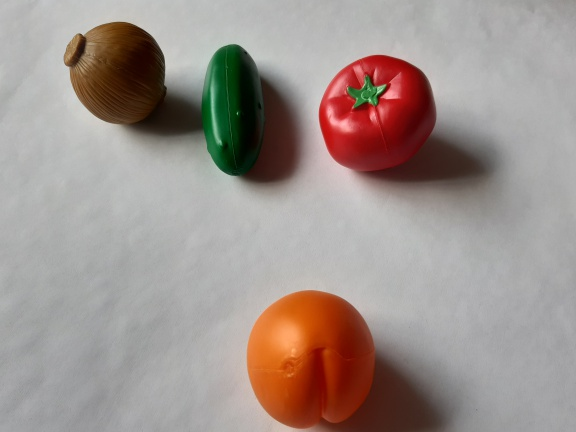apricot: (236, 286, 386, 432)
cucumber: (195, 40, 269, 182)
onion: (56, 16, 181, 136)
tomato: (313, 45, 443, 184)
